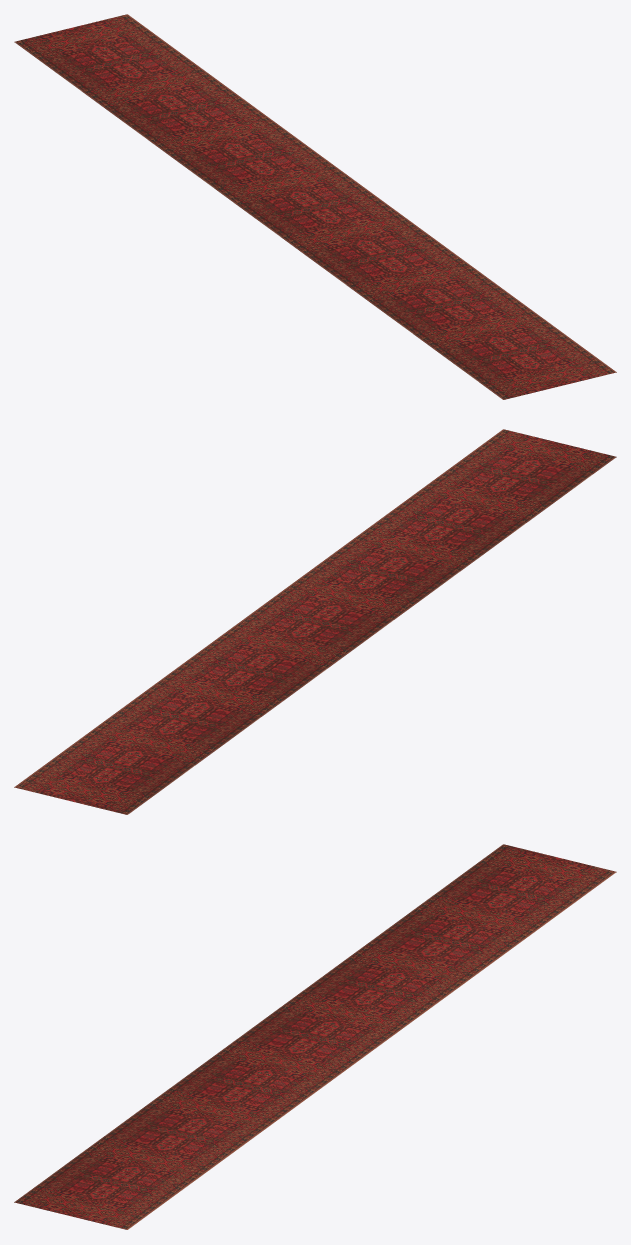
Rendered from kabul-runner-rost.glb.
3 views of the same model, one above another, from view 1: azimuth 30°, elevation 25°; view 2: azimuth 150°, elevation 25°; view 3: azimuth 330°, elevation 25° (orthographic).
Parts seen in each view (by area): view 1: rug; view 2: rug; view 3: rug.
Part boxes in pixels (box(x1,y1,x2,y2)): rug: box(14, 14, 616, 399); rug: box(14, 429, 616, 814); rug: box(14, 844, 616, 1229).
Size of the model in its own units: 0.67 by 0.00631 by 5.
Materials: 4 (3 with a texture image).
